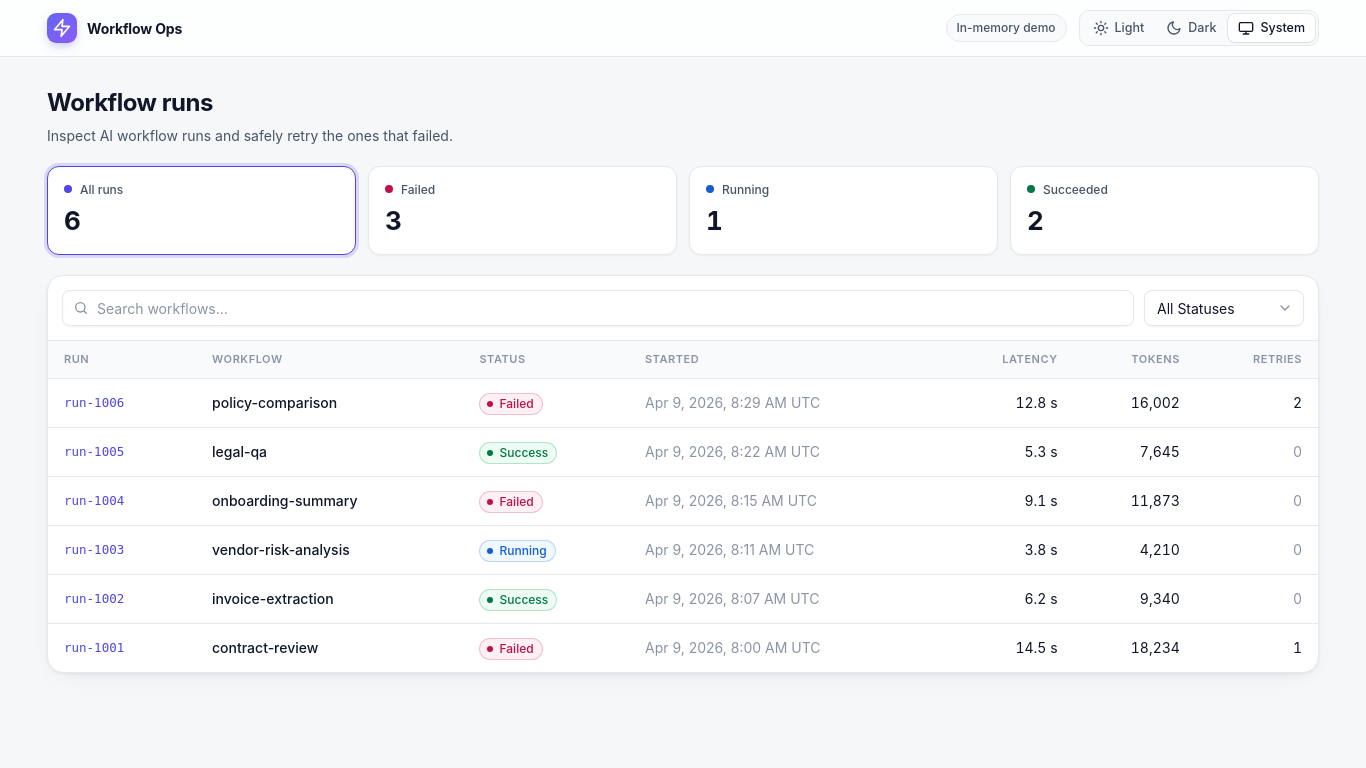
Test: Workflow runs console › searches by workflow name (debounced) and shows an empty state
Expected: the table is shown, [48,341,1318,672]
Type "legal" into the search field labelled "Search workflow" at (598, 308), box [62,290,1134,326]
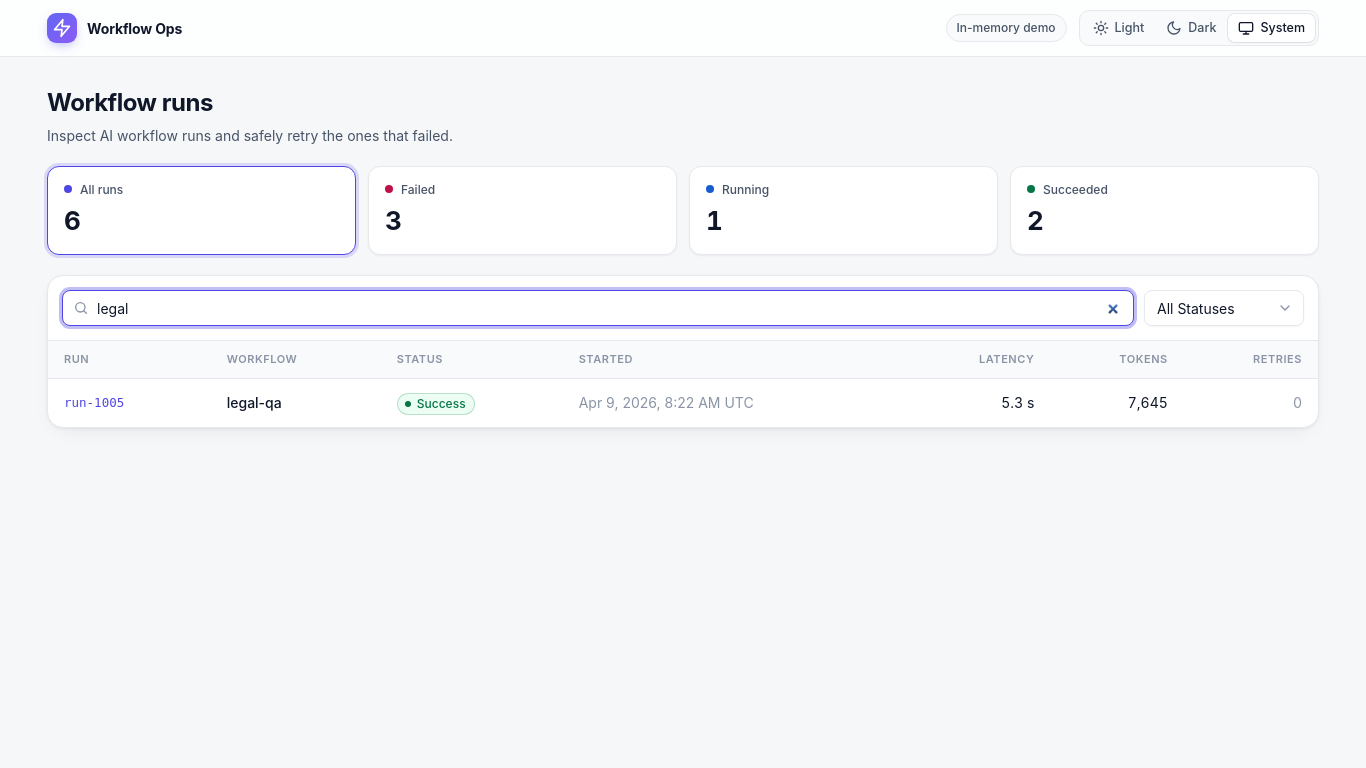
Replace the text in the search field named "Search workflow" with "zzz" at (598, 308), box [62,290,1134,326]
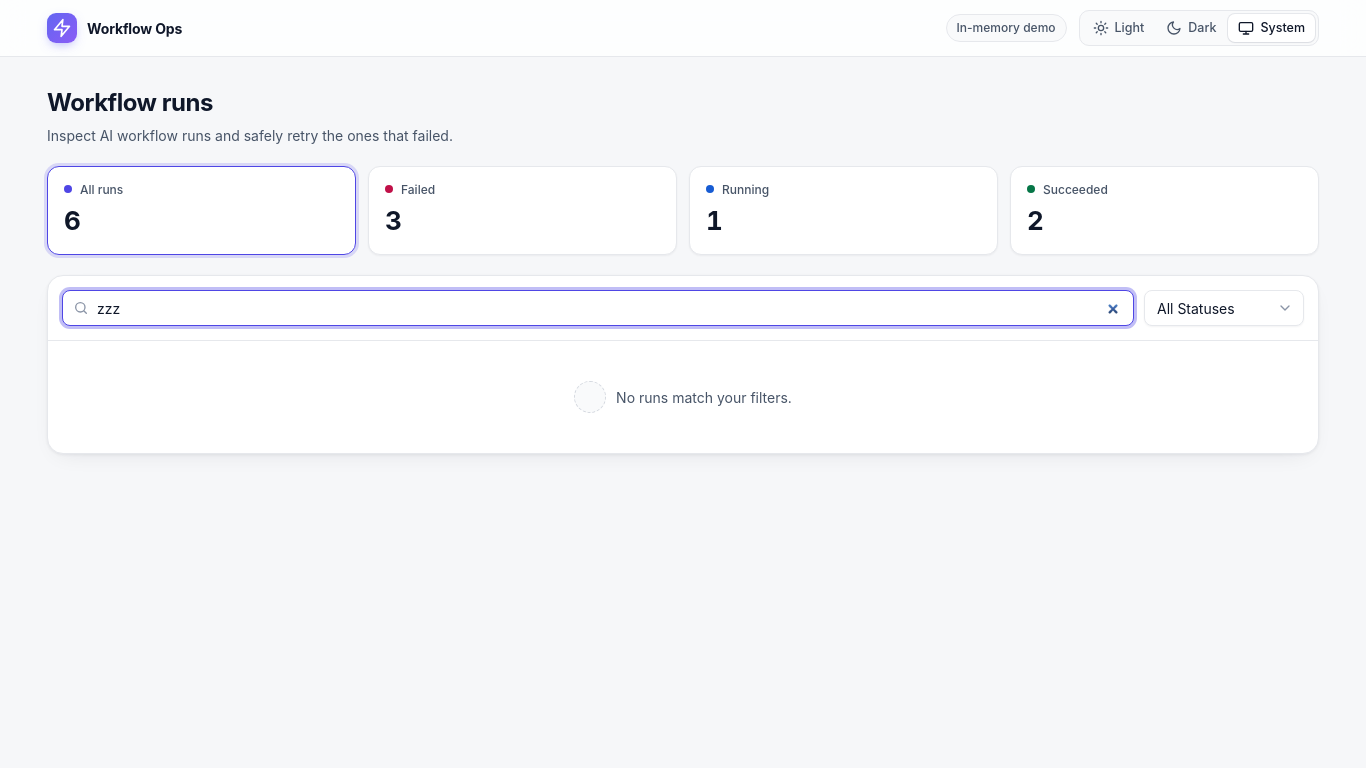
Result: the text "No runs match your filters." is shown at [616,388,792,406]
